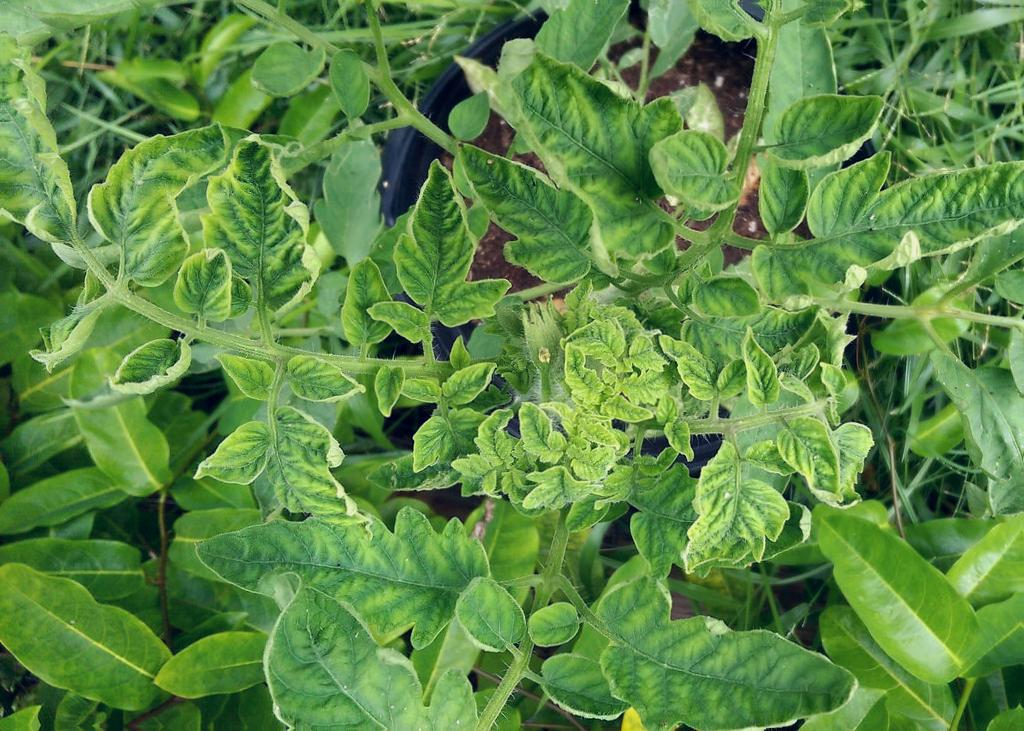Tomato leaf yellow virus: (739, 140, 1024, 331), (498, 55, 716, 283), (587, 556, 859, 731), (179, 506, 503, 636), (802, 493, 988, 688), (349, 152, 529, 350), (0, 538, 182, 726), (89, 81, 242, 295), (255, 574, 439, 729), (42, 300, 174, 498), (207, 120, 323, 326), (448, 152, 608, 292), (233, 395, 364, 533), (678, 441, 797, 573), (641, 113, 754, 233), (104, 332, 194, 398), (279, 349, 365, 412), (736, 328, 784, 411), (513, 395, 567, 467), (656, 336, 717, 399), (559, 315, 632, 366), (436, 360, 502, 407), (370, 355, 407, 422)
